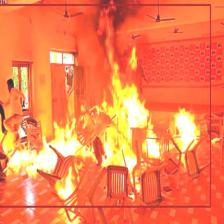fire: (0, 4, 211, 207)
